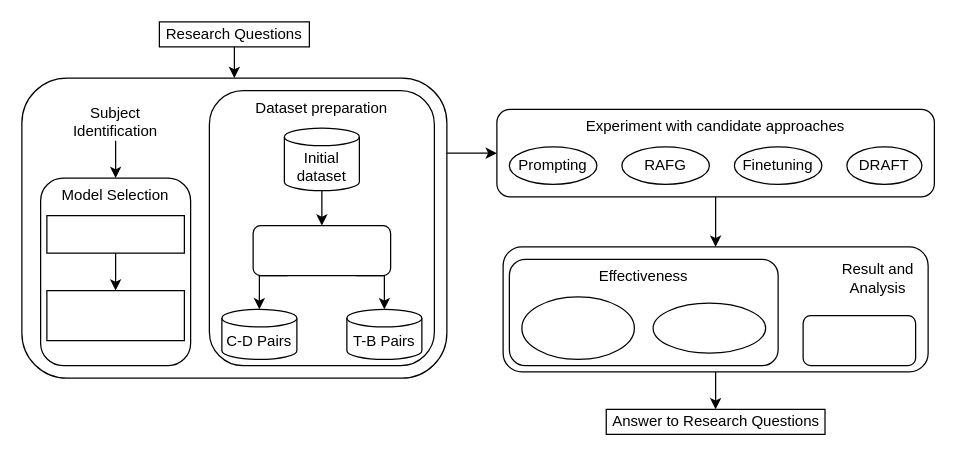
Some shapes in this 956 by 456 pixel diagram are drawn without their labels. The centre of each missing label's shape, as x and y in pixels:
"Automated NLP metrics" goes at (577,327).
"Efficiency (Token, Time)" goes at (859,340).
"Human Evaluations" goes at (709,327).
"LLM leaderboards" goes at (115,233).
"Multi stage processing pipeline" goes at (321,250).
"Selected models by license and size" goes at (115,315).
